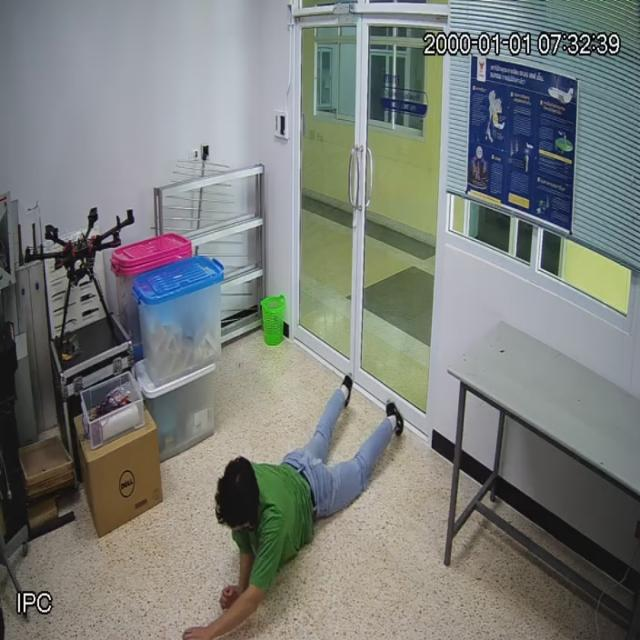fall: (186, 362, 405, 634)
